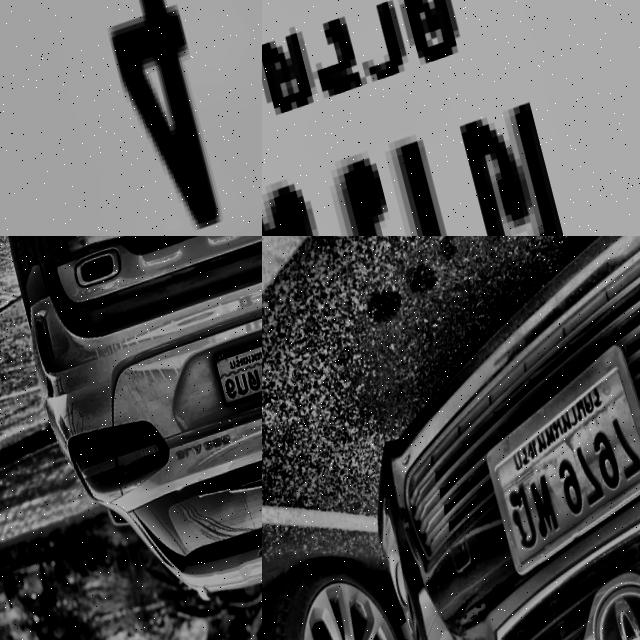license-plate: (262, 0, 640, 236), (0, 0, 262, 236), (465, 335, 640, 593), (208, 325, 262, 416)
